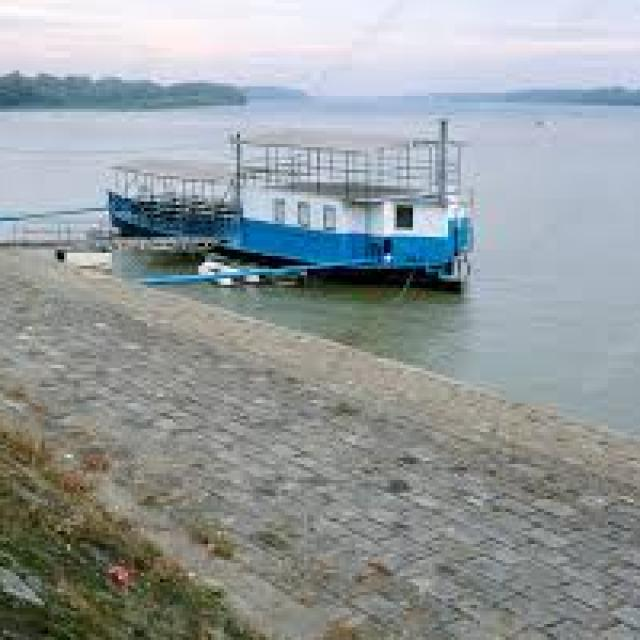fishing boat: (87, 117, 481, 283)
